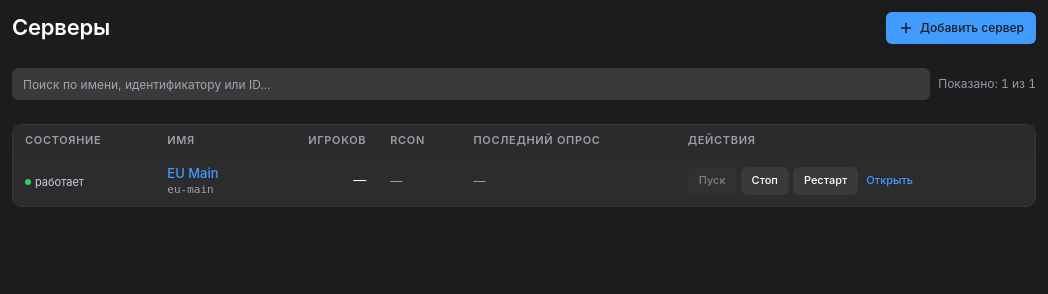
Test: ServersPage — внешний сервер › ошибка действия показывается отдельной полосой и переживает опрос списка
Expected: the link "EU Main" is shown, [167,165,219,181]
Click the button "Стоп" at (765, 181), box [741,167,789,195]
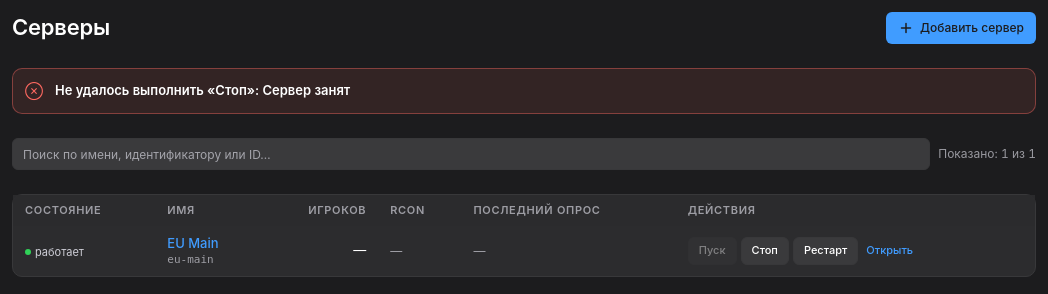
Now the text "Не удалось выполнить «Стоп»: Сервер занят" is shown, box [55,82,350,98]
